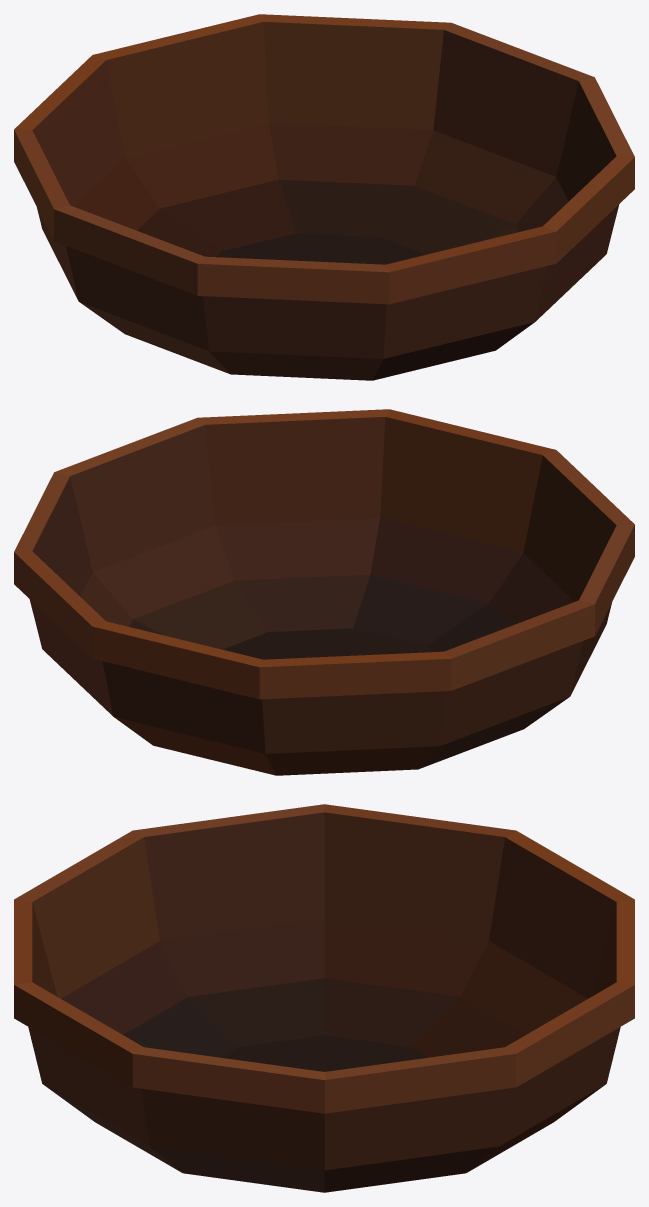
Rendered from Prop_BowlB.fbx.
3 renders of one model, top to bottom at view 1: azimuth 30°, elevation 25°; view 2: azimuth 150°, elevation 25°; view 3: azimuth 270°, elevation 25°, orthographic. The views are drawn at different scales.
Visible parts, largest first — view 1: Prop_BowlB; view 2: Prop_BowlB; view 3: Prop_BowlB.
Part boxes in pixels (left/top/right/bottom): Prop_BowlB: left=14, top=14, right=634, bottom=380; Prop_BowlB: left=14, top=409, right=634, bottom=775; Prop_BowlB: left=14, top=804, right=634, bottom=1192.
Bounding box in the file's own units: 33.83 × 9.78 × 32.17.
